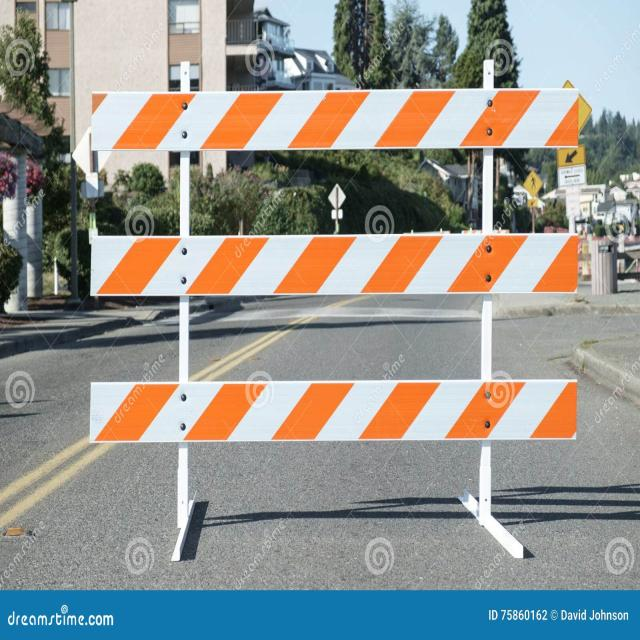cone: (73, 79, 591, 564)
